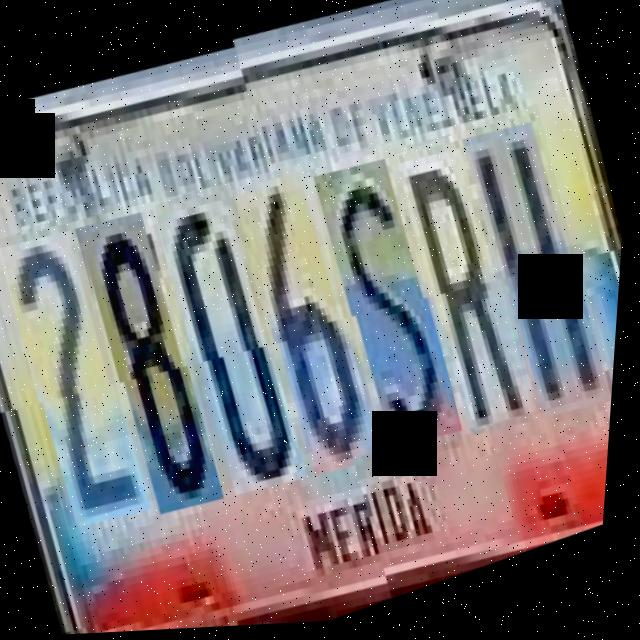0: (142, 177, 323, 498)
2: (0, 210, 167, 530)
6: (221, 157, 397, 477)
8: (64, 191, 241, 517)
H: (451, 105, 628, 425)
R: (383, 130, 557, 444)
S: (302, 142, 480, 457)
